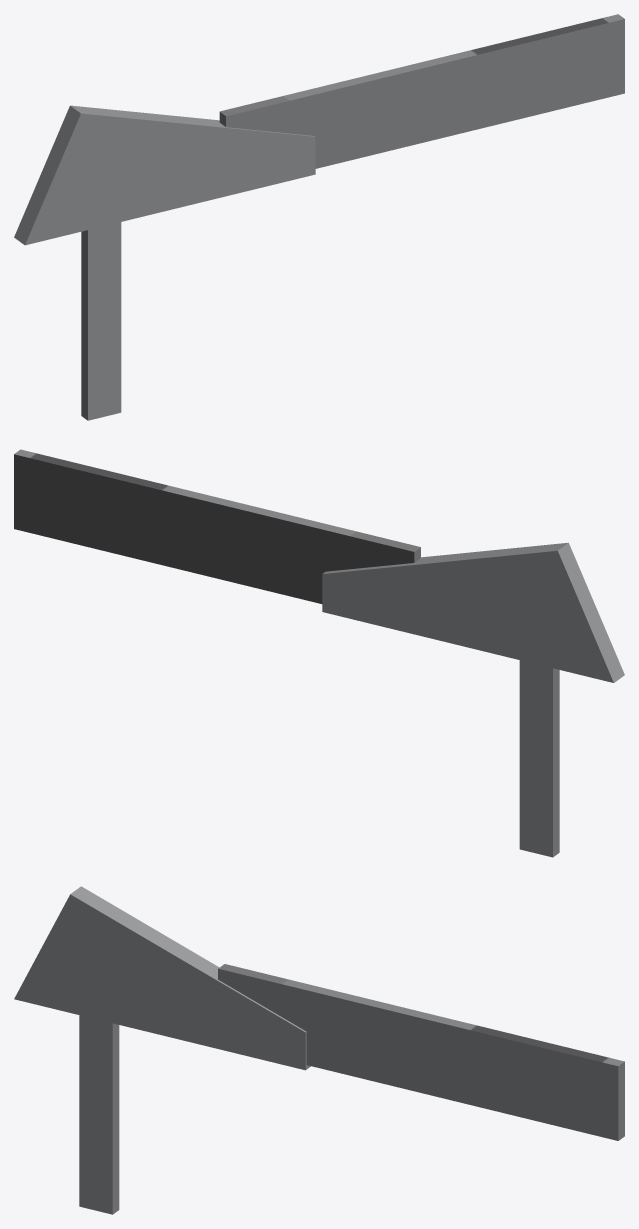
3 views of the same model, one above another, from view 1: azimuth 30°, elevation 25°; view 2: azimuth 150°, elevation 25°; view 3: azimuth 330°, elevation 25° (orthographic).
Size of the model in its own units: 0.5824 by 0.287 by 0.0184.
